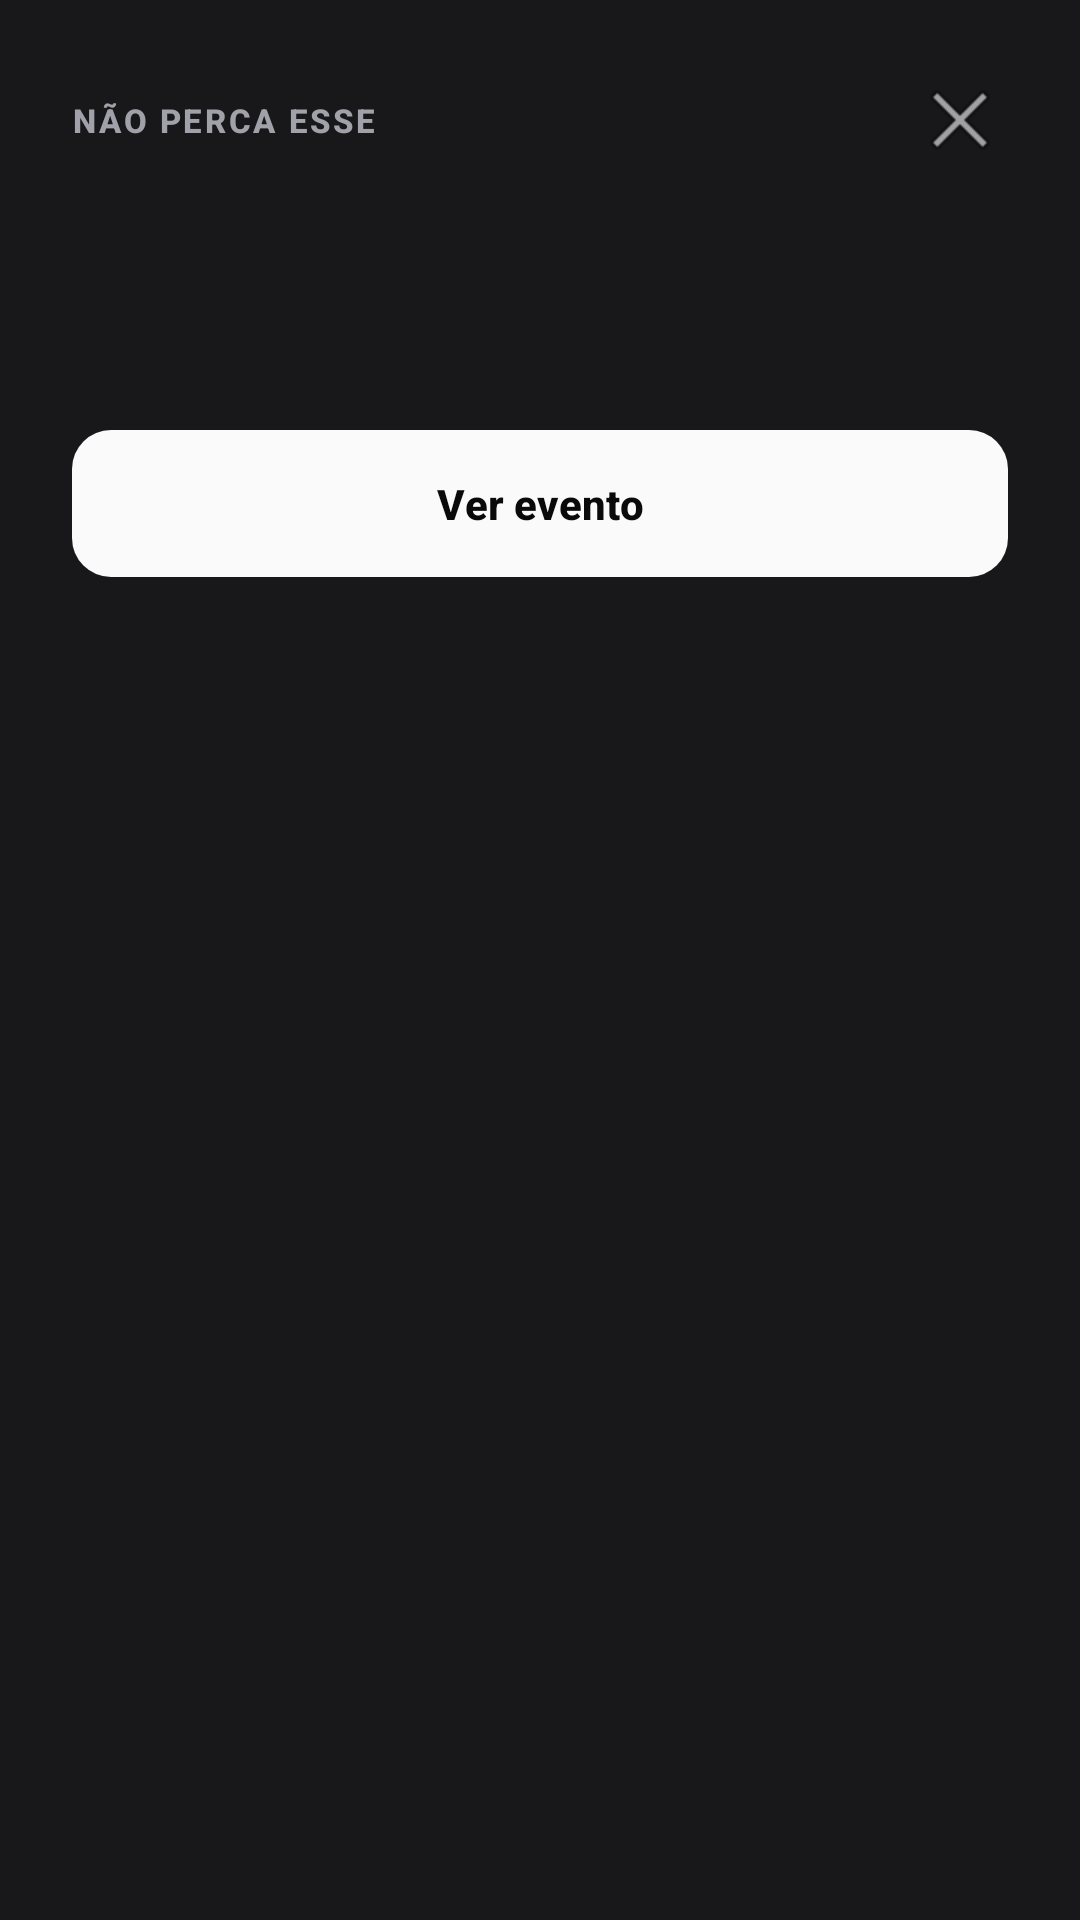

Where to tap for icons on this 1080×1920 app screen, as (x,y):
Fechar: (960,120)
